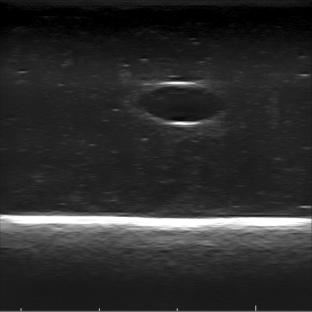vessel: (133, 81, 226, 128)
